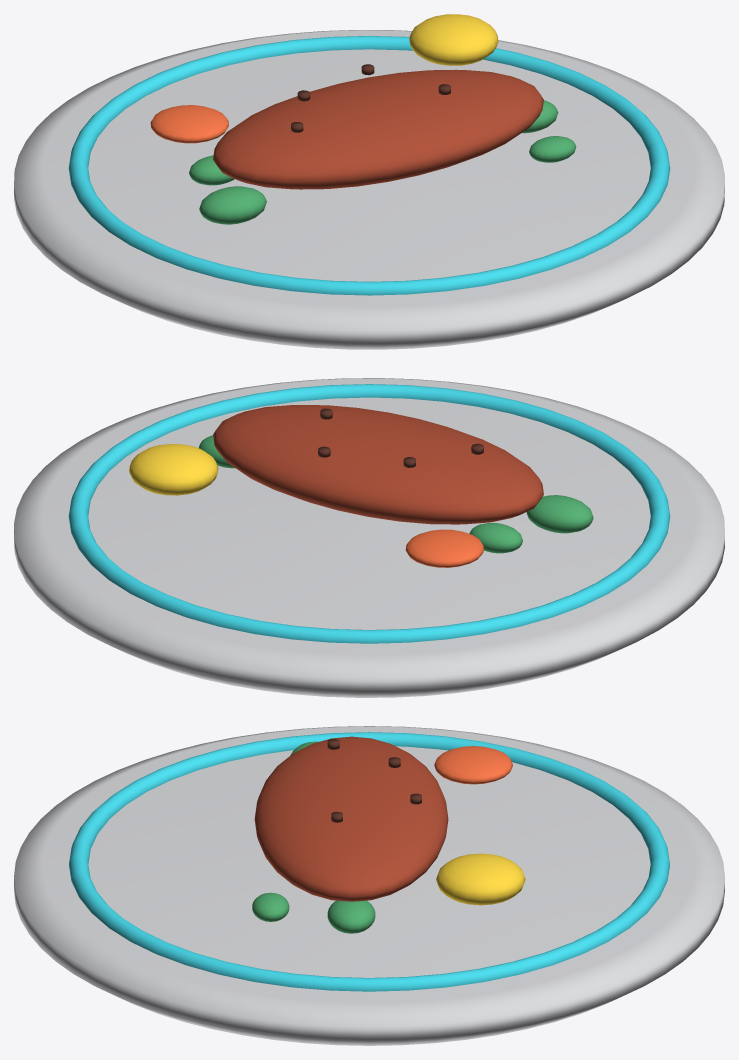
Rendered from steak.glb.
The picture shows the model from 3 angles, top to bottom: view 1: azimuth 30°, elevation 25°; view 2: azimuth 150°, elevation 25°; view 3: azimuth 270°, elevation 25°; orthographic projection.
Parts seen in each view (by area): view 1: plate, steak, plate-rim, greens (×3), lemon, sauce; view 2: plate, steak, plate-rim, lemon, greens (×2), sauce; view 3: plate, steak, plate-rim, lemon, sauce, greens (×2).
Boxes of the visible parts, box(x1,y1,x2,y2) form: plate: box(14, 30, 724, 349); steak: box(213, 69, 543, 189); plate-rim: box(68, 36, 670, 295); greens (×3): box(189, 136, 576, 224); lemon: box(409, 14, 498, 65); sauce: box(150, 105, 228, 143); plate: box(14, 378, 724, 697); steak: box(213, 405, 543, 524); plate-rim: box(68, 384, 670, 643); lemon: box(129, 444, 218, 495); greens (×2): box(469, 495, 593, 553); sauce: box(405, 529, 484, 567); plate: box(14, 726, 724, 1045); steak: box(254, 736, 448, 901); plate-rim: box(69, 732, 669, 991); lemon: box(436, 853, 525, 905); sauce: box(434, 746, 512, 784); greens (×2): box(252, 892, 375, 933).
Bounding box in the file's own units: 3.96 × 0.7375 × 3.96.
